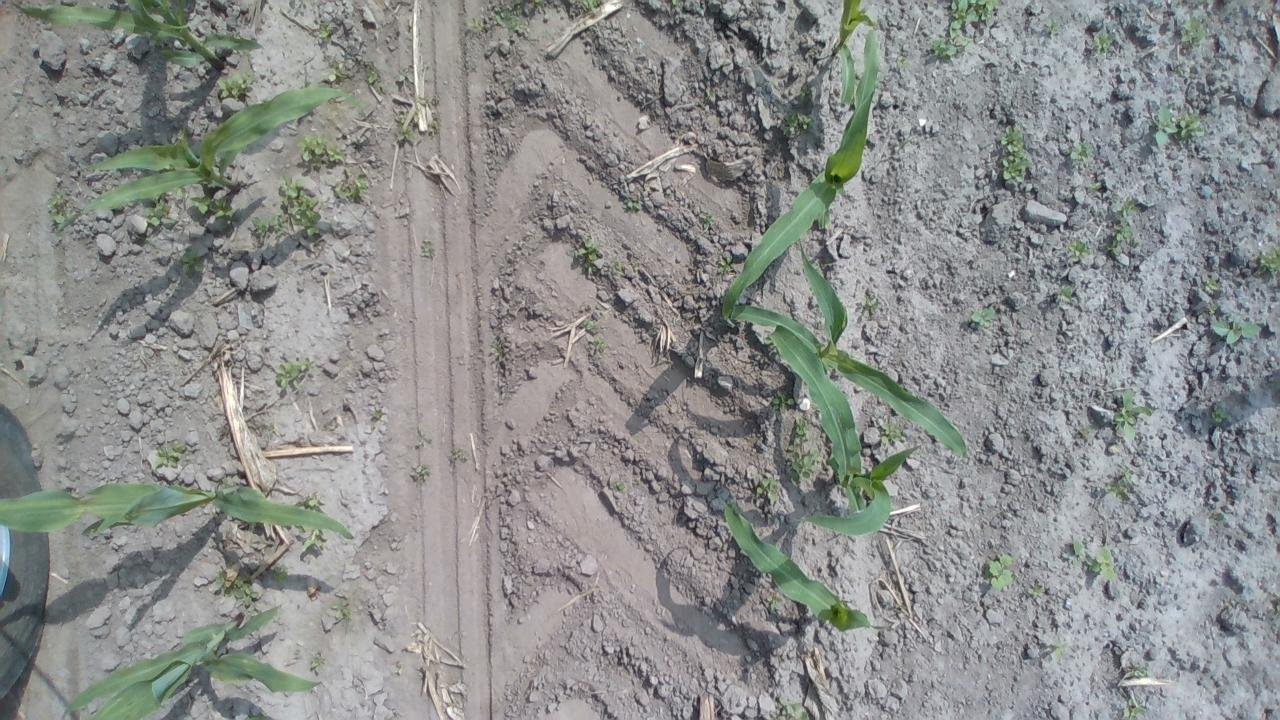Maize: (736, 242, 977, 472), (722, 25, 884, 330), (80, 86, 368, 231), (761, 316, 924, 550), (55, 599, 326, 720), (5, 474, 358, 549), (716, 499, 884, 639), (7, 0, 270, 69), (828, 0, 878, 113)
Weeds: (1143, 102, 1207, 154), (278, 176, 324, 242), (1108, 384, 1150, 450), (1071, 534, 1122, 588), (1203, 310, 1261, 354), (788, 412, 818, 483), (998, 126, 1030, 188), (213, 565, 260, 607), (272, 354, 318, 394), (468, 8, 528, 38), (944, 1, 996, 35), (297, 136, 346, 170), (141, 191, 178, 232), (245, 213, 289, 243), (570, 233, 604, 271), (190, 193, 232, 223), (216, 72, 258, 102), (1106, 459, 1136, 501), (928, 31, 974, 58), (151, 439, 190, 470), (1174, 15, 1209, 49), (986, 550, 1014, 591), (174, 247, 212, 277), (1107, 224, 1137, 262), (48, 191, 78, 228), (293, 487, 330, 517), (1066, 134, 1096, 170), (333, 178, 374, 204), (777, 112, 815, 139), (296, 526, 330, 556), (754, 476, 784, 508), (874, 417, 905, 447), (772, 694, 806, 720), (266, 558, 292, 592), (324, 57, 352, 87), (1118, 697, 1154, 720), (1064, 237, 1094, 263), (1110, 195, 1140, 221), (1089, 26, 1115, 56), (968, 304, 998, 330), (1204, 396, 1228, 427), (891, 53, 916, 81), (768, 388, 796, 413), (1125, 659, 1154, 683), (442, 442, 470, 466), (1258, 246, 1280, 276), (395, 124, 422, 148), (1052, 279, 1078, 303), (332, 598, 354, 626), (609, 260, 643, 278), (316, 20, 342, 43), (414, 425, 436, 451), (621, 192, 646, 214), (858, 292, 879, 317), (764, 588, 784, 614), (1049, 634, 1068, 660), (306, 648, 325, 674), (1028, 579, 1046, 606), (699, 211, 721, 233), (1204, 272, 1226, 294), (798, 82, 816, 107), (1042, 12, 1062, 34), (716, 251, 732, 277), (418, 238, 436, 260), (362, 66, 380, 87), (578, 318, 600, 334), (410, 464, 432, 480), (1086, 179, 1106, 196), (590, 337, 608, 355), (367, 404, 386, 421), (576, 0, 602, 12), (611, 479, 626, 496)
